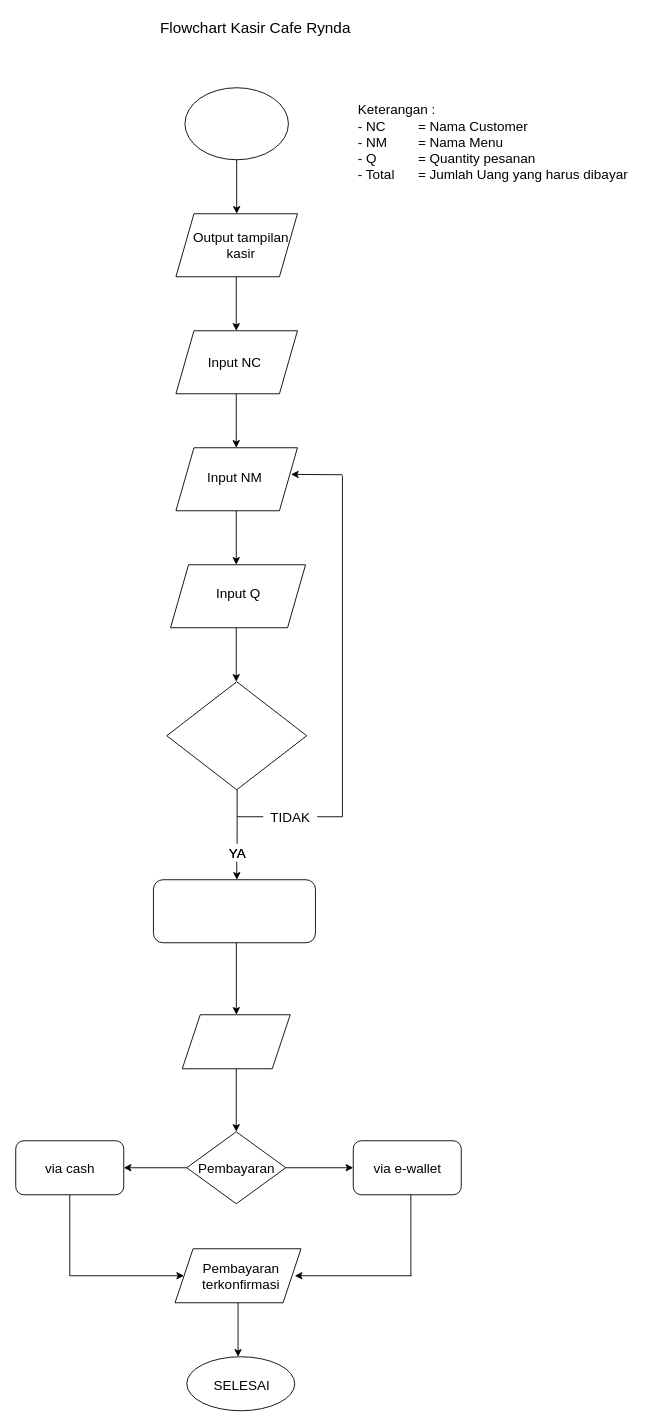
Some shapes in this 653 by 1427 pixel diagram are drawn without their labels. Here are the shapes that lost their labels. From the top down, the centre of each, then its label:
At [236,123]: "START".
At [236,735]: "if pesanan = true".
At [234,911]: "Perhitungan total Pesanan Hasil = Q * Harga Menu".
At [235,1041]: "print TOTAL".
